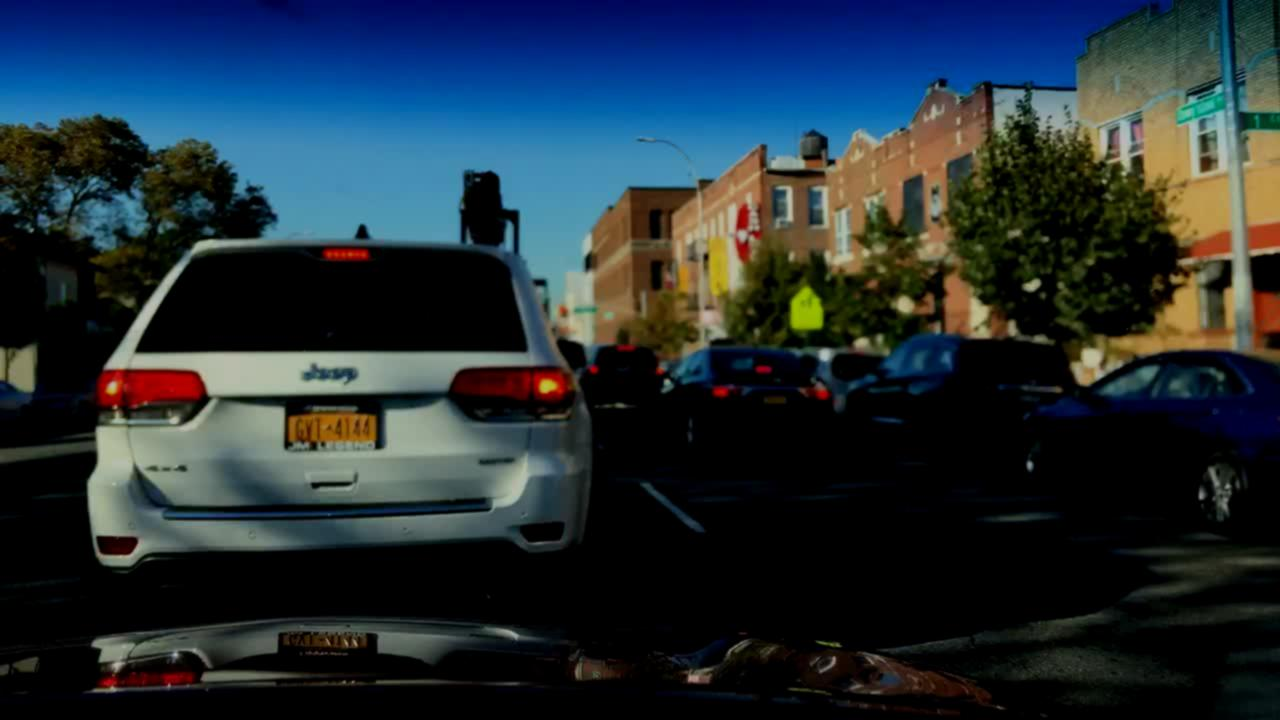jeep: (289, 354, 377, 388)
